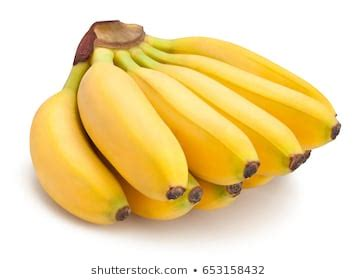banana: (150, 60, 308, 174), (160, 50, 342, 148), (123, 63, 263, 189), (74, 60, 189, 205), (26, 84, 134, 226)
